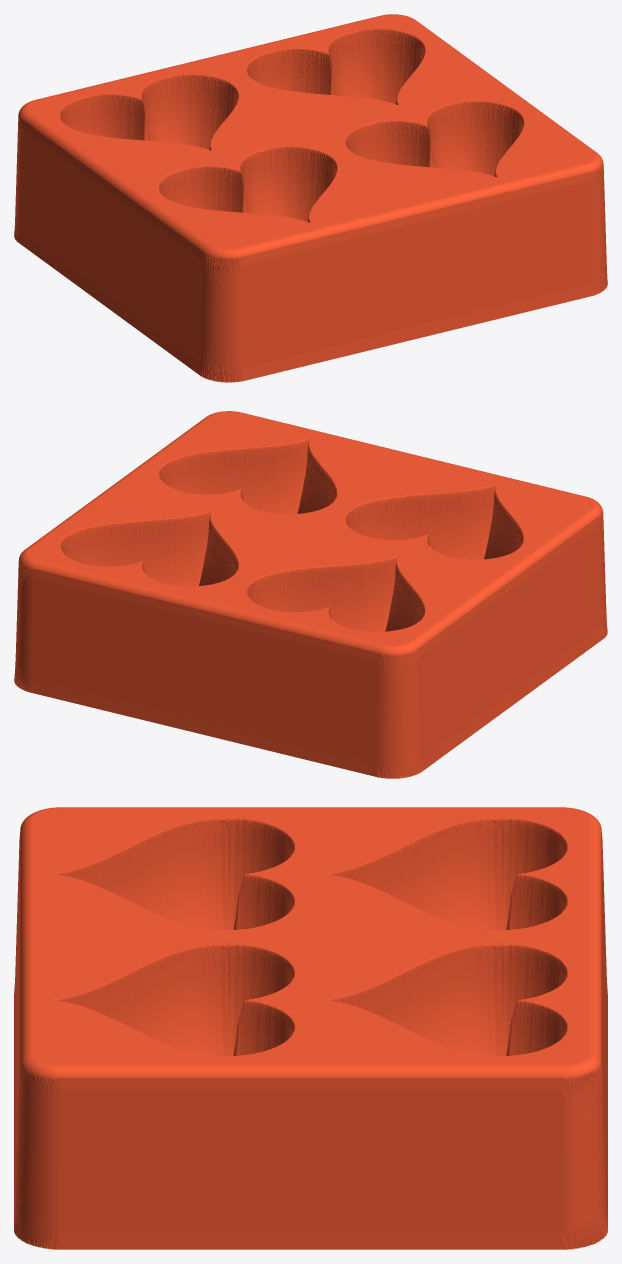
File: mold.glb
3 views of the same model, one above another, from view 1: azimuth 30°, elevation 25°; view 2: azimuth 150°, elevation 25°; view 3: azimuth 270°, elevation 25° (orthographic). The views are drawn at different scales.
Parts seen in each view (by area): view 1: geometry_0; view 2: geometry_0; view 3: geometry_0.
Part boxes in pixels (left/top/right/bottom): geometry_0: left=14, top=14, right=607, bottom=382; geometry_0: left=14, top=411, right=607, bottom=778; geometry_0: left=14, top=807, right=607, bottom=1249.
Size of the model in its own units: 0.1248 by 0.0377 by 0.115.
